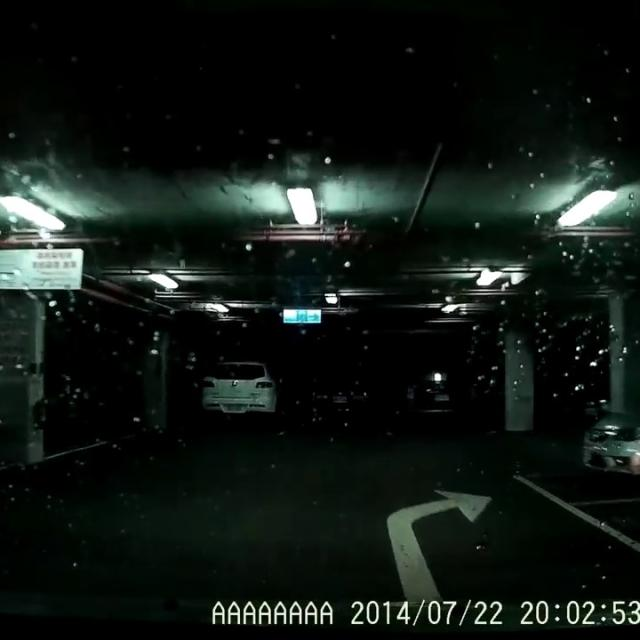Car: (281, 371, 379, 439), (385, 360, 469, 438), (197, 355, 277, 425), (573, 403, 639, 480)
